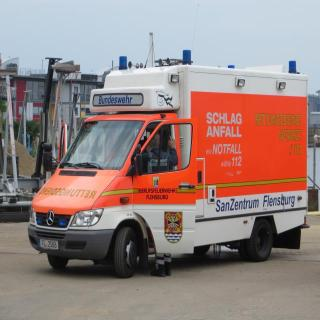Ambulance: (21, 23, 312, 294)
